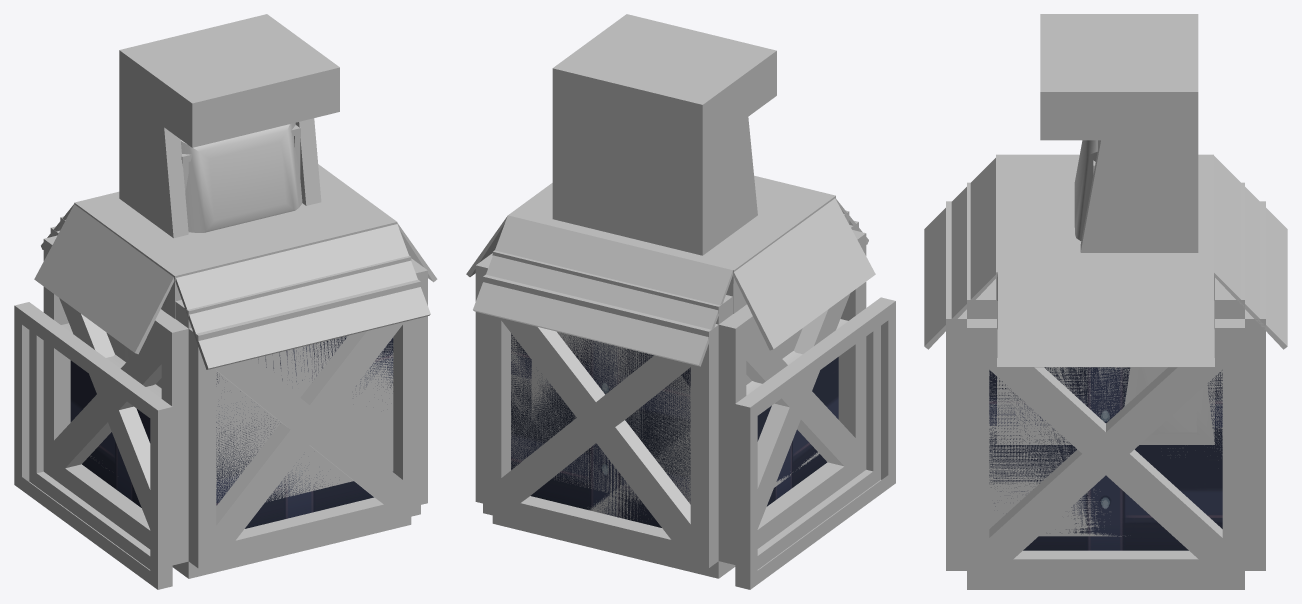
Rendered from Pared extra.fbx.
3 views of the same model, side by side, from view 1: azimuth 30°, elevation 25°; view 2: azimuth 150°, elevation 25°; view 3: azimuth 270°, elevation 25° (orthographic). The views are drawn at different scales.
Parts seen in each view (by area): view 1: PC.001, Reja 1, Caja carton abierta, Reja 2, ventilacion 3, ventilacion 1, Caja carton Cerrada, Piso base, Reja 3; view 2: PC.001, Reja 1, Caja carton abierta, Reja 2, ventilacion 3, Piso base, Caja carton Cerrada, ventilacion 4, Reja 3, ventilacion 2, ventilacion 1, Reja 4; view 3: Caja carton abierta, PC.001, Reja 3, Reja 2, Caja carton Cerrada, Piso base, Reja 1, ventilacion 2, Reja 4.
Part boxes in pixels (<box>): PC.001: <box>119,14,339,238</box>; Reja 1: <box>50,216,420,578</box>; Caja carton abierta: <box>34,204,437,369</box>; Reja 2: <box>43,235,427,573</box>; ventilacion 3: <box>14,302,296,589</box>; ventilacion 1: <box>216,336,393,505</box>; Caja carton Cerrada: <box>74,164,397,388</box>; Piso base: <box>70,336,393,528</box>; Reja 3: <box>219,270,427,504</box>; PC.001: <box>552,14,776,255</box>; Reja 1: <box>483,210,858,578</box>; Caja carton abierta: <box>466,198,875,366</box>; Reja 2: <box>475,230,866,577</box>; ventilacion 3: <box>516,282,895,589</box>; Piso base: <box>511,333,838,527</box>; Caja carton Cerrada: <box>508,175,835,384</box>; ventilacion 4: <box>511,334,819,492</box>; Reja 3: <box>475,266,690,522</box>; ventilacion 2: <box>550,351,818,503</box>; ventilacion 1: <box>511,333,690,469</box>; Reja 4: <box>511,374,690,435</box>; Caja carton abierta: <box>924,156,1287,444</box>; PC.001: <box>1040,14,1198,252</box>; Reja 3: <box>967,319,1244,579</box>; Reja 2: <box>946,319,1265,589</box>; Caja carton Cerrada: <box>996,154,1214,444</box>; Piso base: <box>989,367,1222,550</box>; Reja 1: <box>946,182,1265,589</box>; ventilacion 2: <box>952,355,1259,536</box>; Reja 4: <box>989,426,1222,444</box>.
Size of the model in its own units: 272 by 379 by 261.
